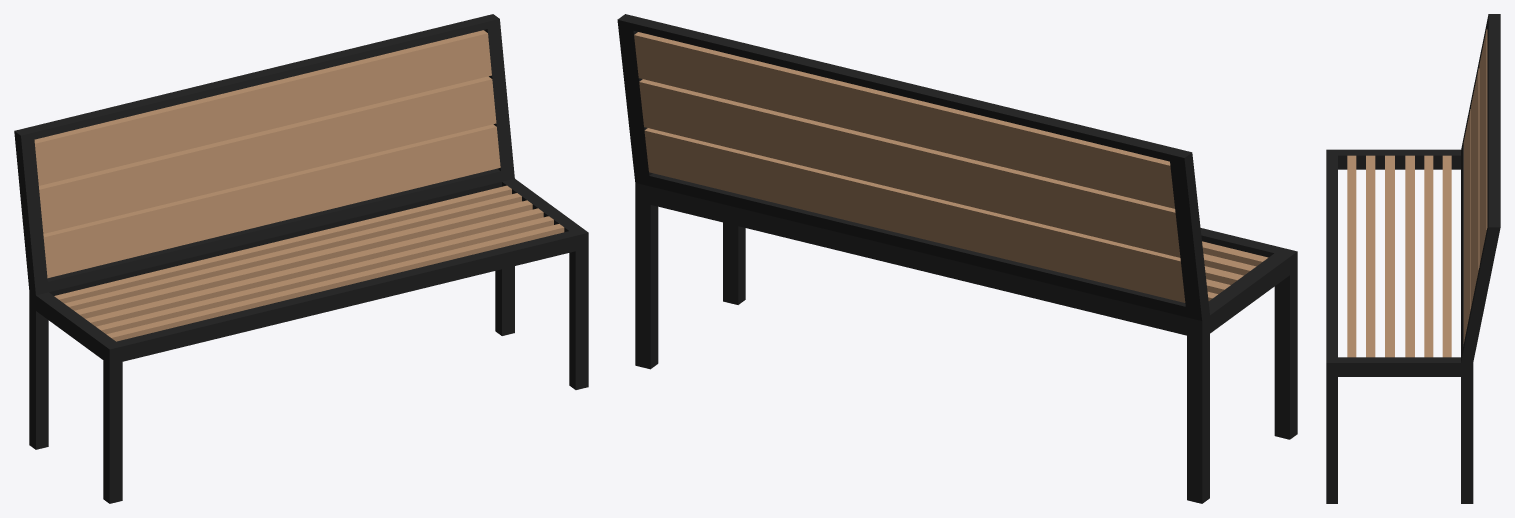
The model's file is Bench.fbx.
3 views of the same model, side by side, from view 1: azimuth 30°, elevation 25°; view 2: azimuth 150°, elevation 25°; view 3: azimuth 270°, elevation 25° (orthographic). The views are drawn at different scales.
Parts seen in each view (by area): view 1: pCube1; view 2: pCube1; view 3: pCube1.
Boxes of the visible parts, x1=… form: pCube1: x1=14, y1=14, x2=588, y2=503; pCube1: x1=617, y1=14, x2=1297, y2=503; pCube1: x1=1326, y1=14, x2=1500, y2=503.
Size of the model in its own units: 182 by 110 by 62.99.
